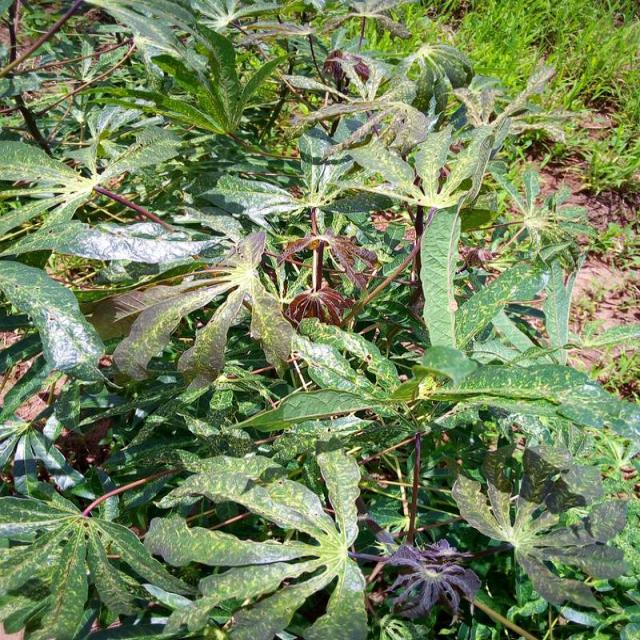cassava leaf: (0, 2, 638, 638), (0, 257, 105, 382)
